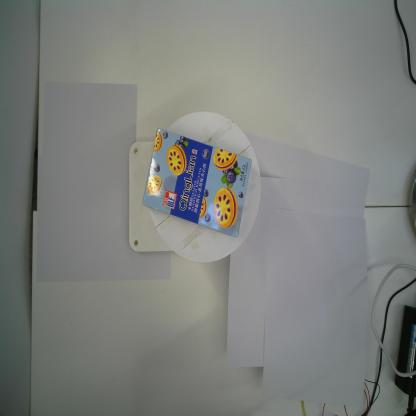Dessert: (142, 127, 252, 238)
